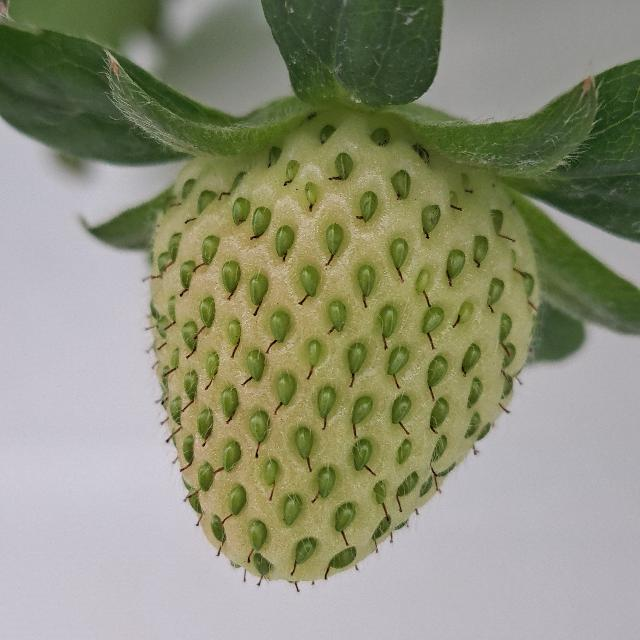Health_25: (149, 106, 539, 582)
